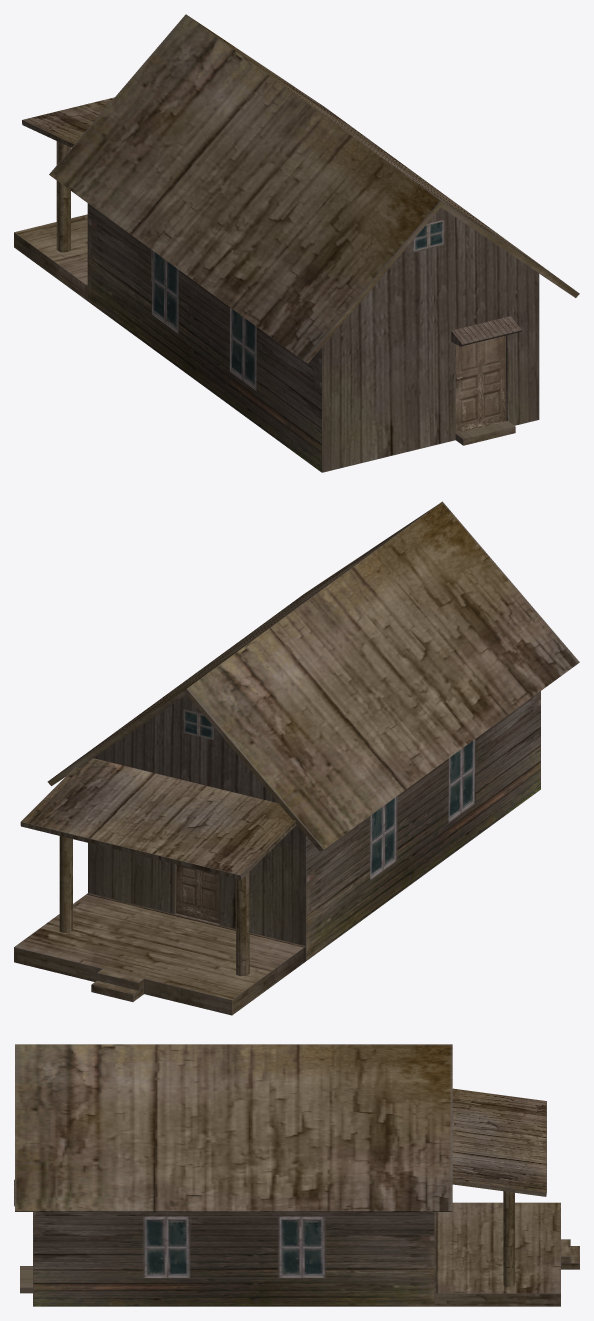
File: house.obj
3 renders of one model, top to bottom at view 1: azimuth 30°, elevation 25°; view 2: azimuth 150°, elevation 25°; view 3: azimuth 270°, elevation 25°, orthographic. The views are drawn at different scales.
Parts seen in each view (by area): view 1: polySurface73; view 2: polySurface73; view 3: polySurface73.
Part boxes in pixels (bbox=[...]): polySurface73: bbox=[14, 14, 579, 472]; polySurface73: bbox=[14, 501, 579, 1015]; polySurface73: bbox=[14, 1044, 579, 1306].
Size of the model in its own units: 24.28 by 21.28 by 50.36.
